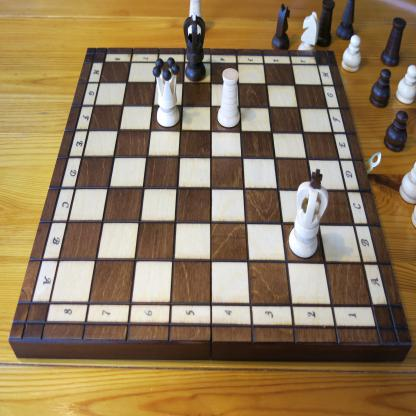black-bishop: (335, 0, 356, 41)
black-king: (183, 1, 206, 83)
black-knight: (271, 2, 291, 51)
black-pawn: (384, 110, 408, 152), (369, 68, 392, 109)
black-rook: (380, 16, 407, 68), (315, 0, 336, 48)
white-king: (287, 168, 329, 260)
white-knight: (297, 11, 320, 52)
white-pawn: (341, 33, 362, 73), (398, 161, 416, 205), (396, 64, 415, 105)
white-queen: (152, 56, 180, 128)
white-rook: (217, 67, 240, 129), (186, 0, 204, 38)
